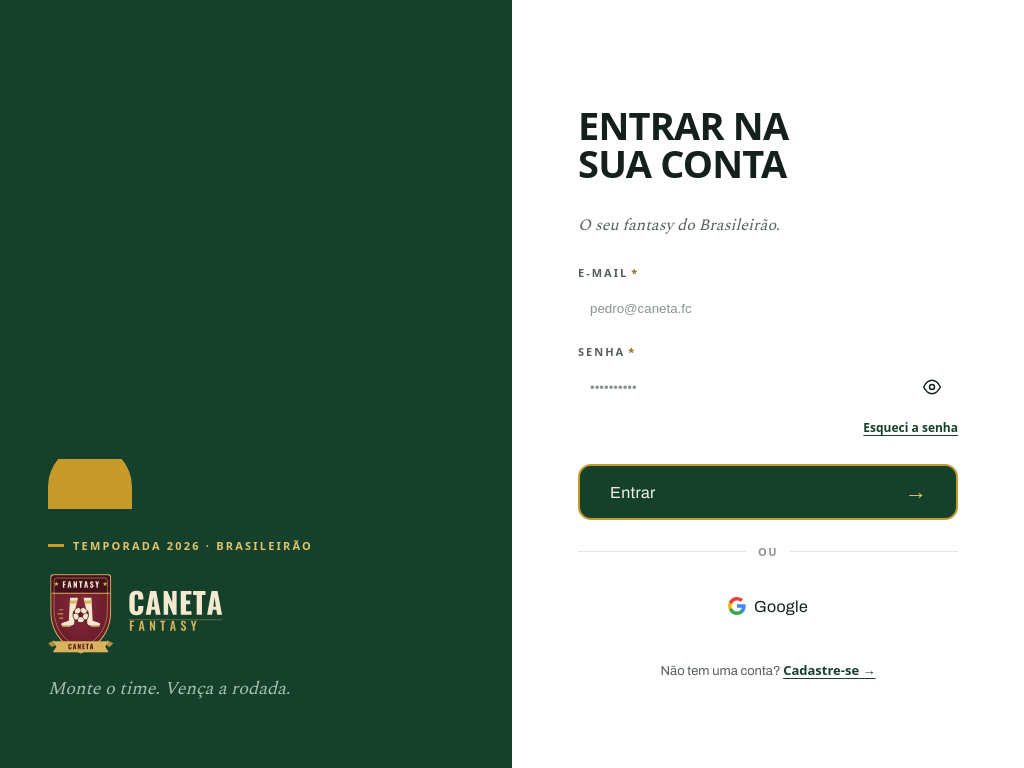
Test: SignIn › shows a validation error when submitting empty
Click the button "Entrar →". click: (633, 492)
box: [578,464,958,520]
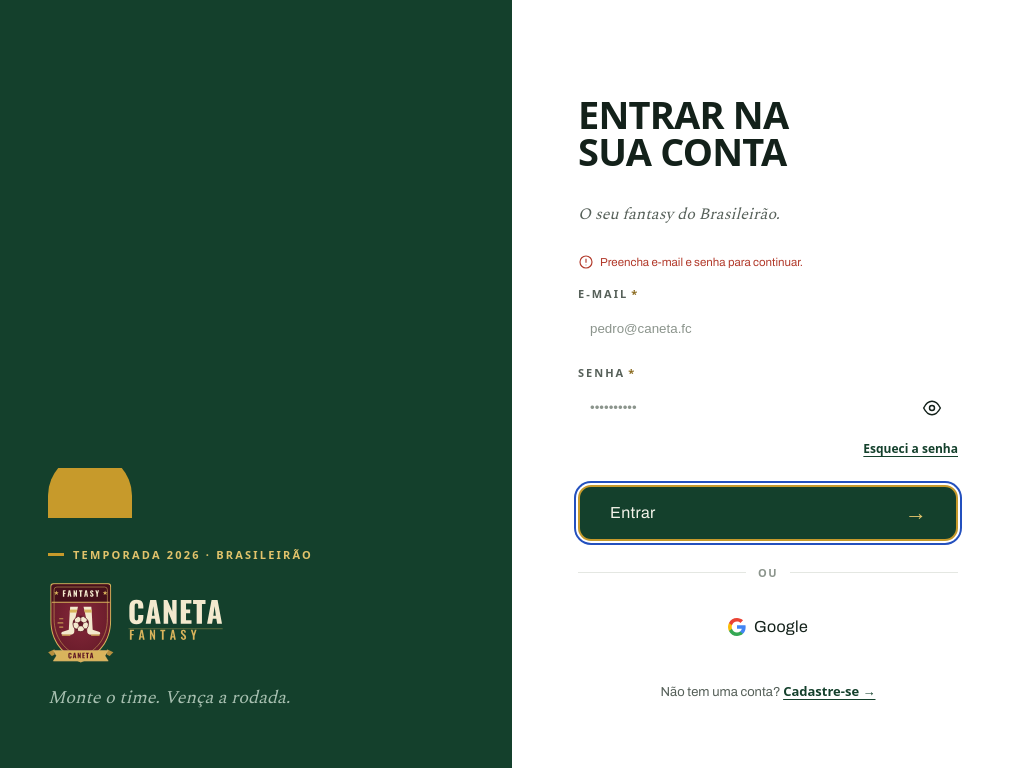
Expected: the message "Preencha e-mail e senha para continuar." is shown, [578,254,803,270]
